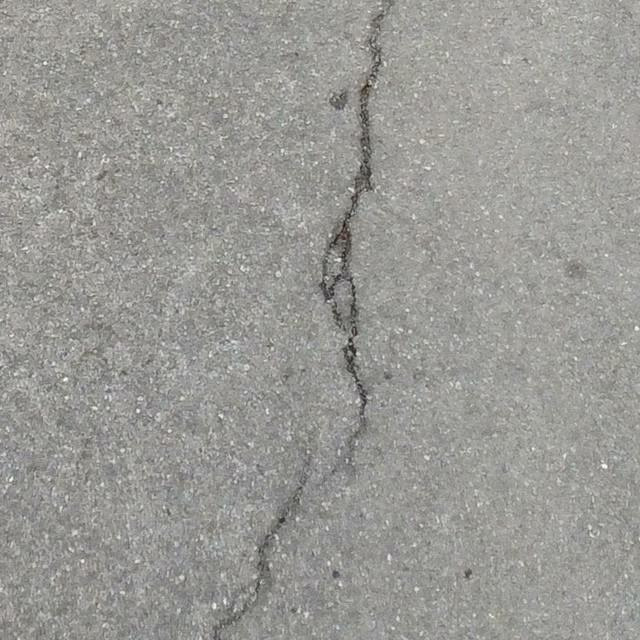LongitudinalCrack: (321, 1, 394, 476), (213, 450, 311, 639)
